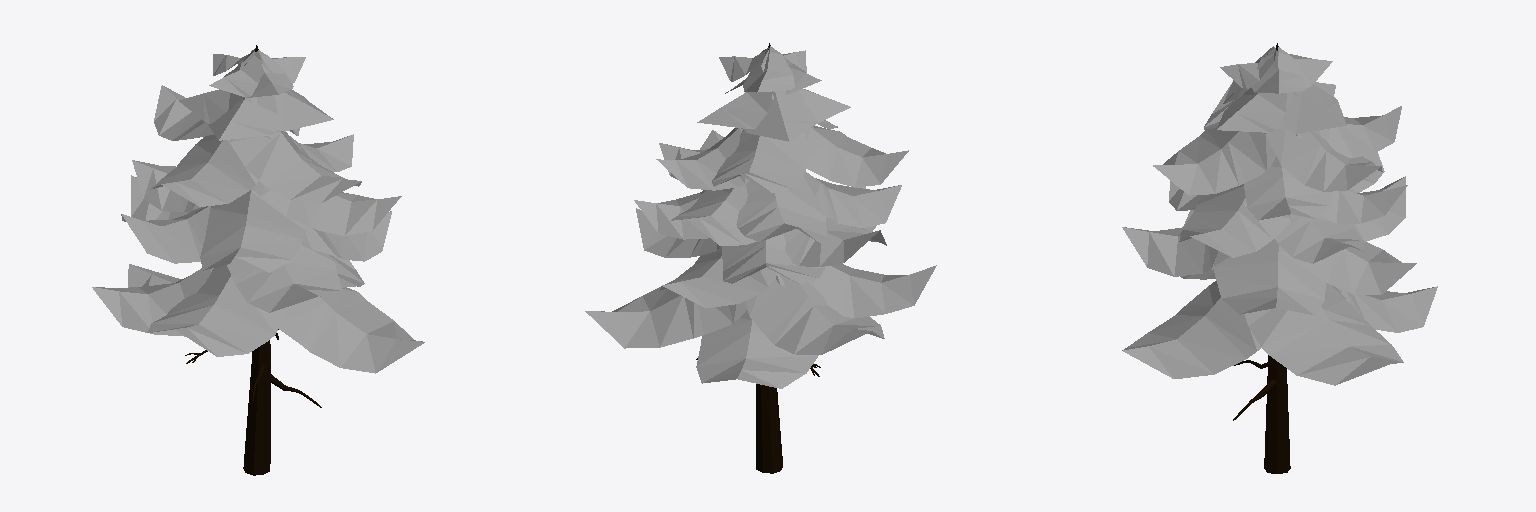
File: PineTree_1.obj
The picture shows the model from 3 angles: view 1: azimuth 30°, elevation 25°; view 2: azimuth 150°, elevation 25°; view 3: azimuth 270°, elevation 25°; orthographic projection.
Parts seen in each view (by area): view 1: PineTree_1_Cube.006; view 2: PineTree_1_Cube.006; view 3: PineTree_1_Cube.006.
Boxes of the visible parts, x1,y1,x2,y2 form: PineTree_1_Cube.006: [92, 45, 424, 475]; PineTree_1_Cube.006: [585, 43, 936, 473]; PineTree_1_Cube.006: [1122, 43, 1437, 473].
Size of the model in its own units: 2.98 by 4.5 by 3.03.